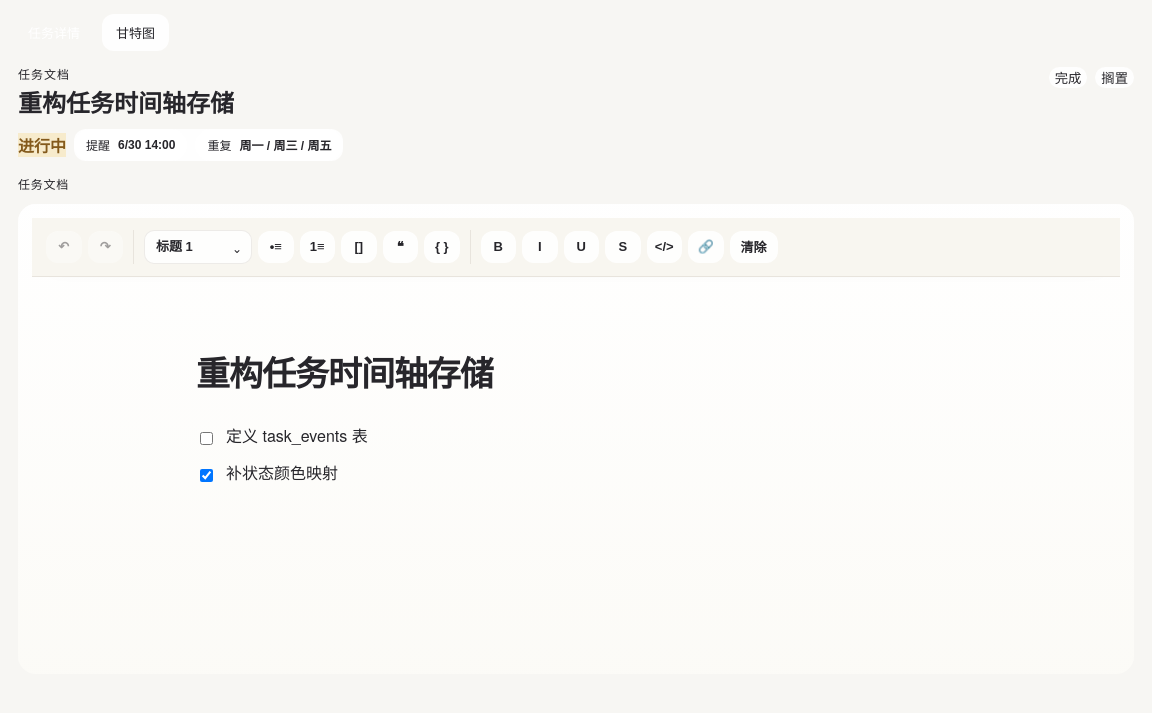
Test case: TaskDetailPane › opens reminder editor controls when reminder summary is clicked
Click the button "提醒 6/30 14:00 重复 周一 / 周三 / 周五".
click(209, 145)  # box [74,129,343,161]
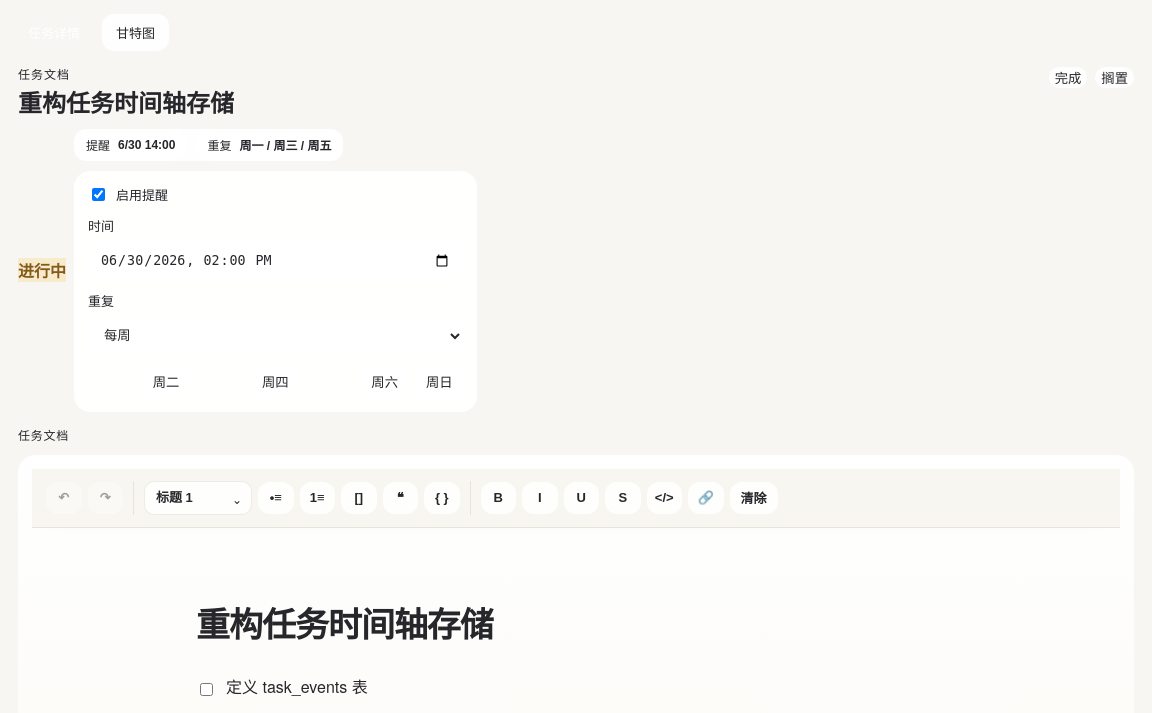
Expected: the element named "reminder-editor" is shown, [74,171,477,412]
Expected: the element named "weekly-days" is shown, [88,366,463,398]
